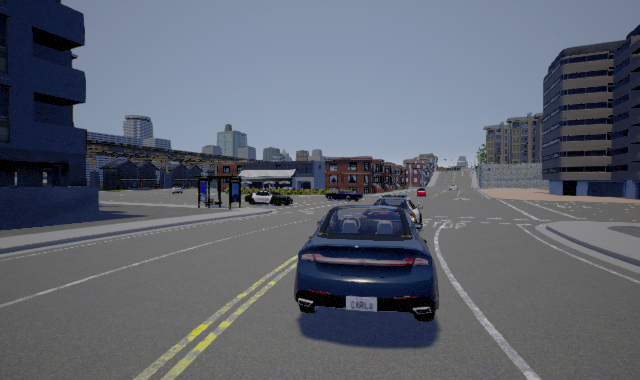vehicle: (294, 203, 439, 323), (371, 195, 424, 230), (244, 190, 293, 206), (324, 187, 363, 202), (416, 187, 428, 196)
